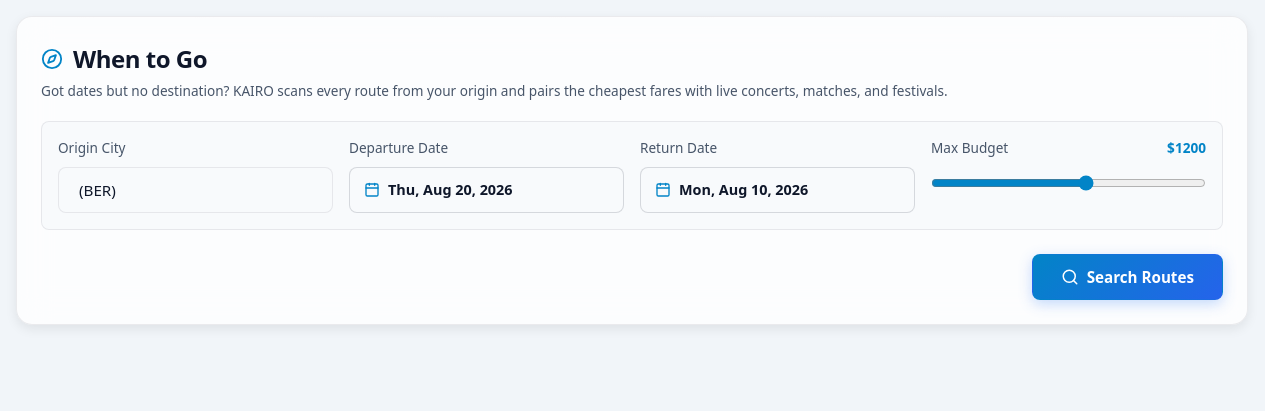
Test: AIDestinationExplorer Component › validates return date is after departure date before searching
The width and height of the screenshot is (1265, 411).
Click the button "Search Routes" at (1127, 277), box [1032, 254, 1223, 300]
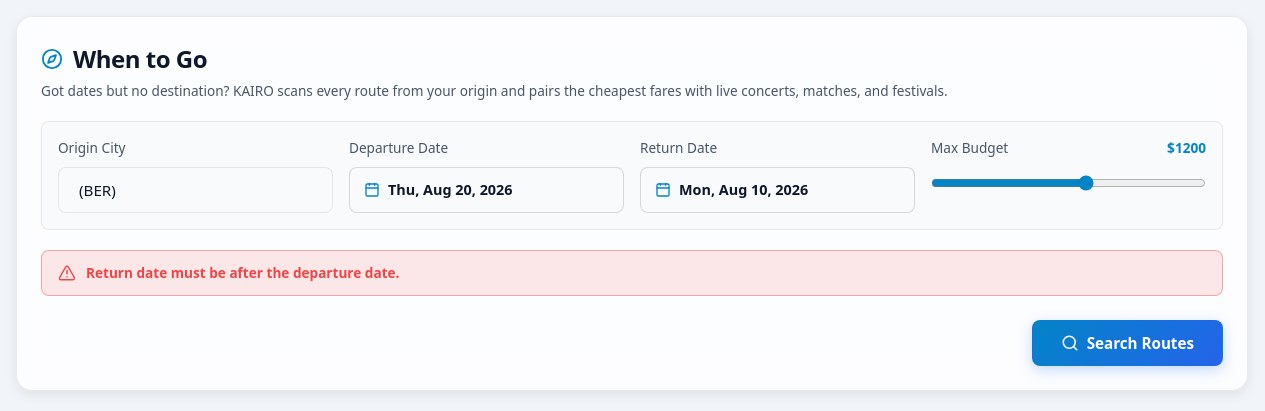
Expected: the text "Return date must be after the departure date." is shown, [86, 263, 400, 283]
